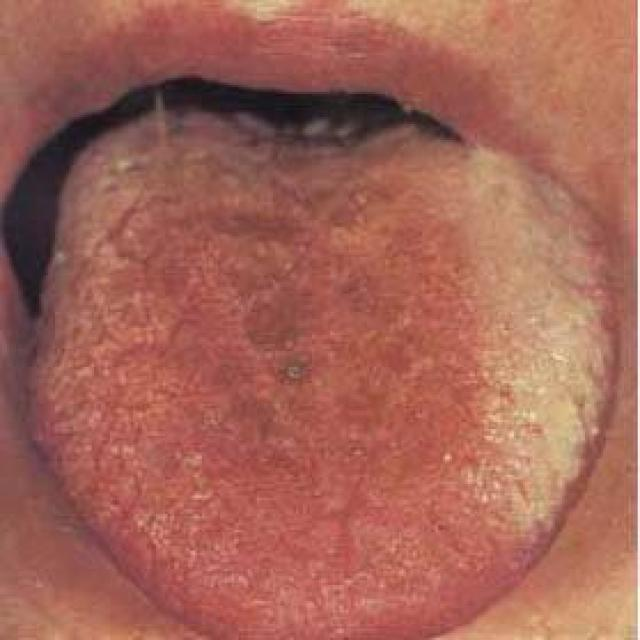tongue: (20, 104, 625, 639)
